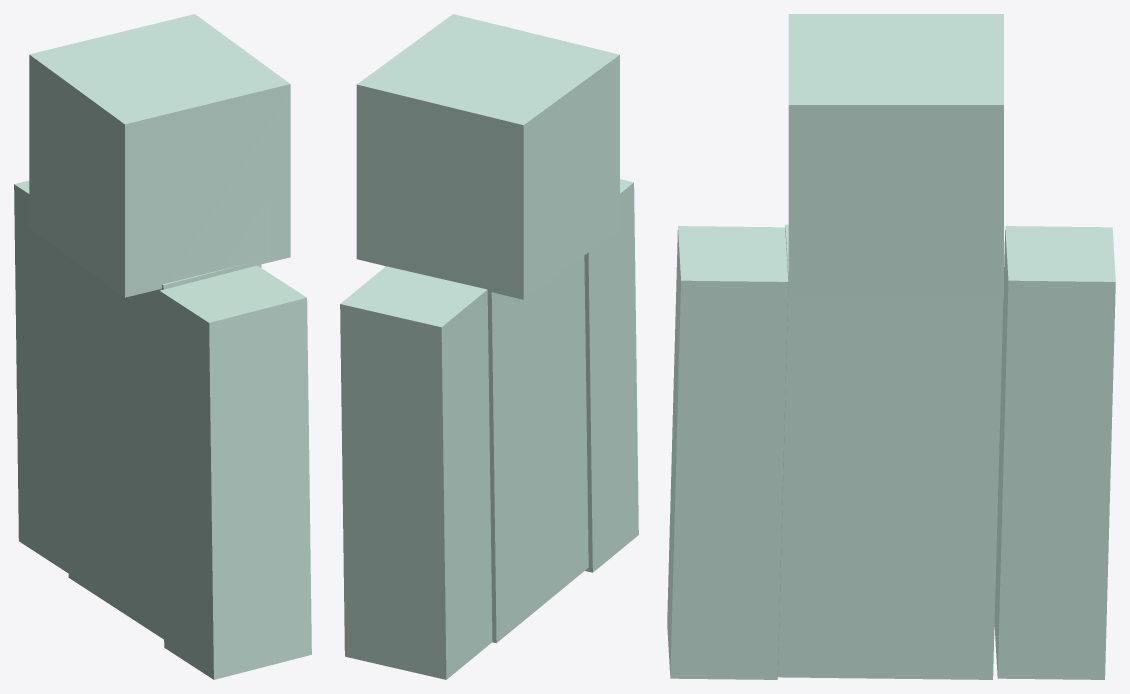
3 views of the same model, side by side, from view 1: azimuth 30°, elevation 25°; view 2: azimuth 150°, elevation 25°; view 3: azimuth 270°, elevation 25° (orthographic). The views are drawn at different scales.
Parts seen in each view (by area): view 1: Renderer Node; view 2: Renderer Node; view 3: Renderer Node.
Boxes of the visible parts, <box> form: Renderer Node: <box>14,14,311,679</box>; Renderer Node: <box>340,14,638,679</box>; Renderer Node: <box>667,14,1115,679</box>.
Size of the model in its own units: 0.1953 by 0.5936 by 0.4069.
